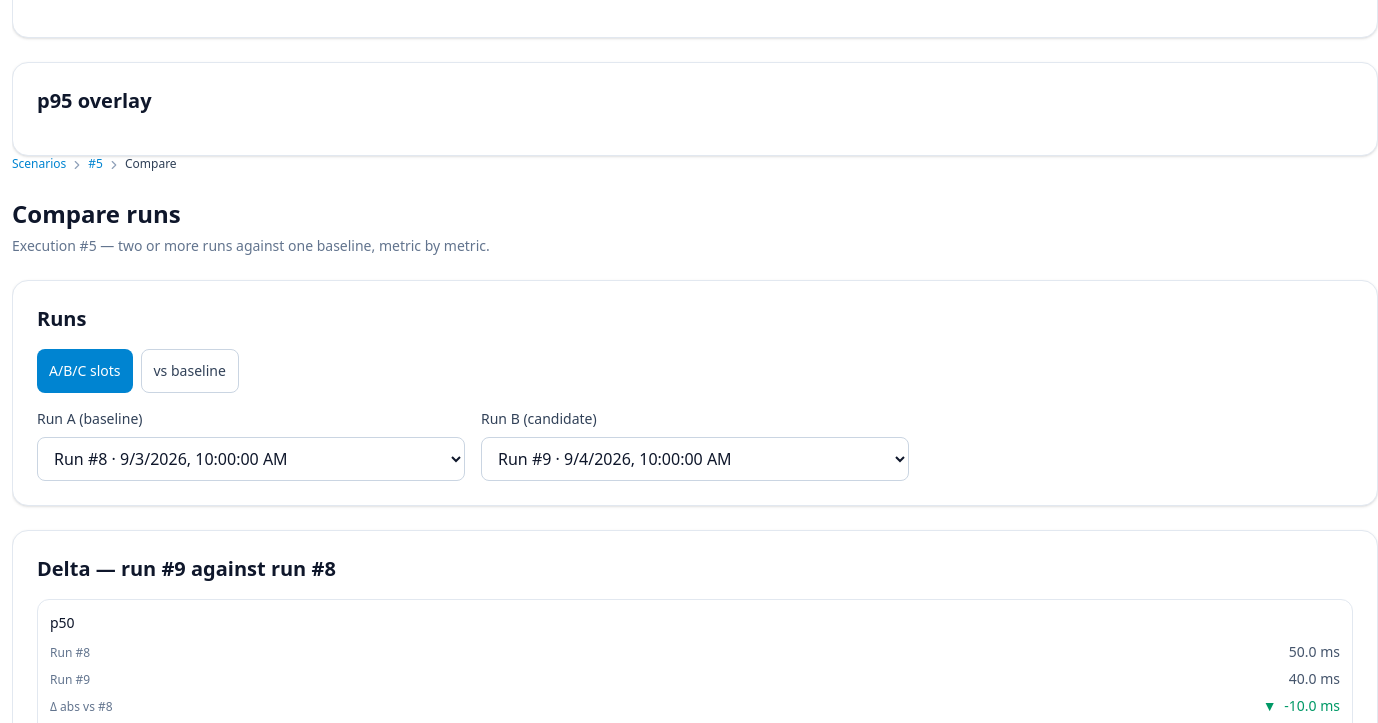
Test: RunCompare card mode (phase 86) › renders the vs-baseline run list as cards below sm, controls and all
(page scrolled)
Click the button with test id "mode-vs-baseline": (190, 371) [140, 349, 239, 393]
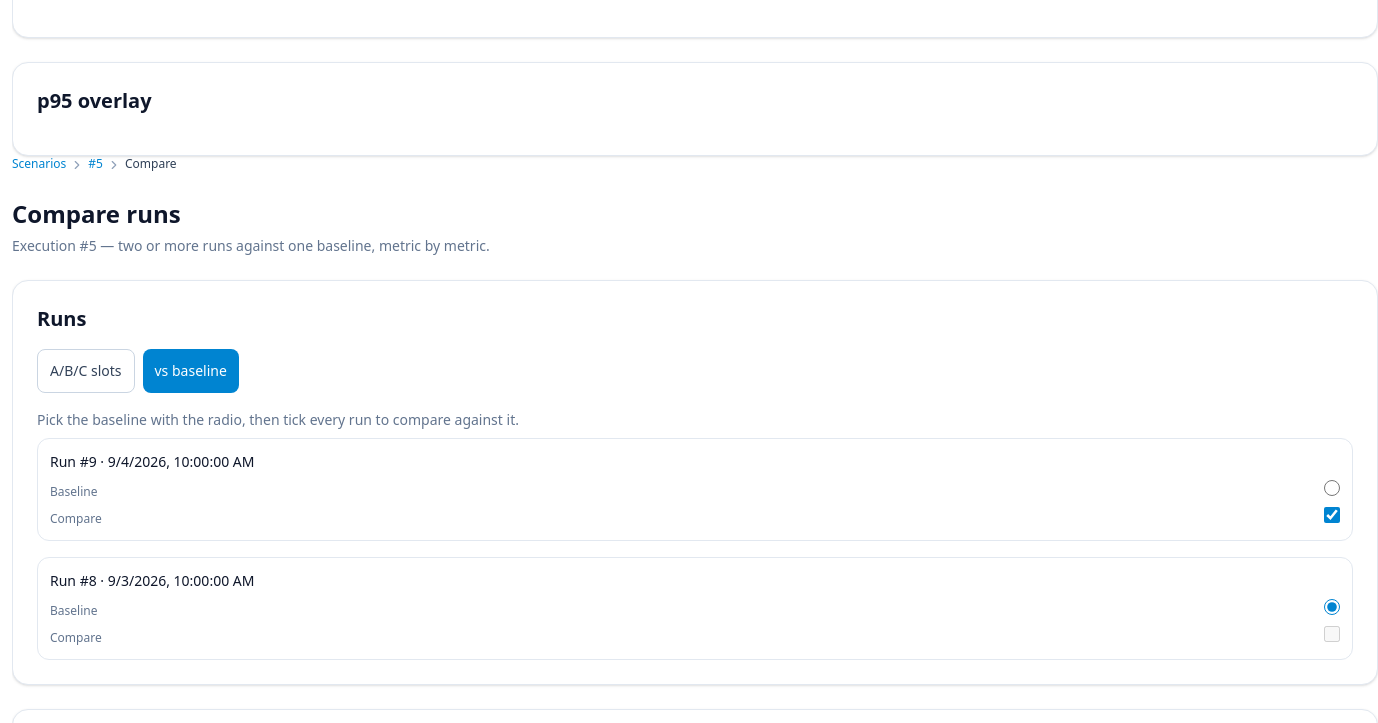
Check: the element with test id "baseline-run-list" is shown, box [37, 409, 1353, 660]
Check: the list with test id "baseline-runs-cards" is shown, box [37, 438, 1353, 660]
Check: the list item "Run #9 · 9/4/2026, 10:00:00 AM Baseline Compare" is shown, box [37, 438, 1353, 541]
